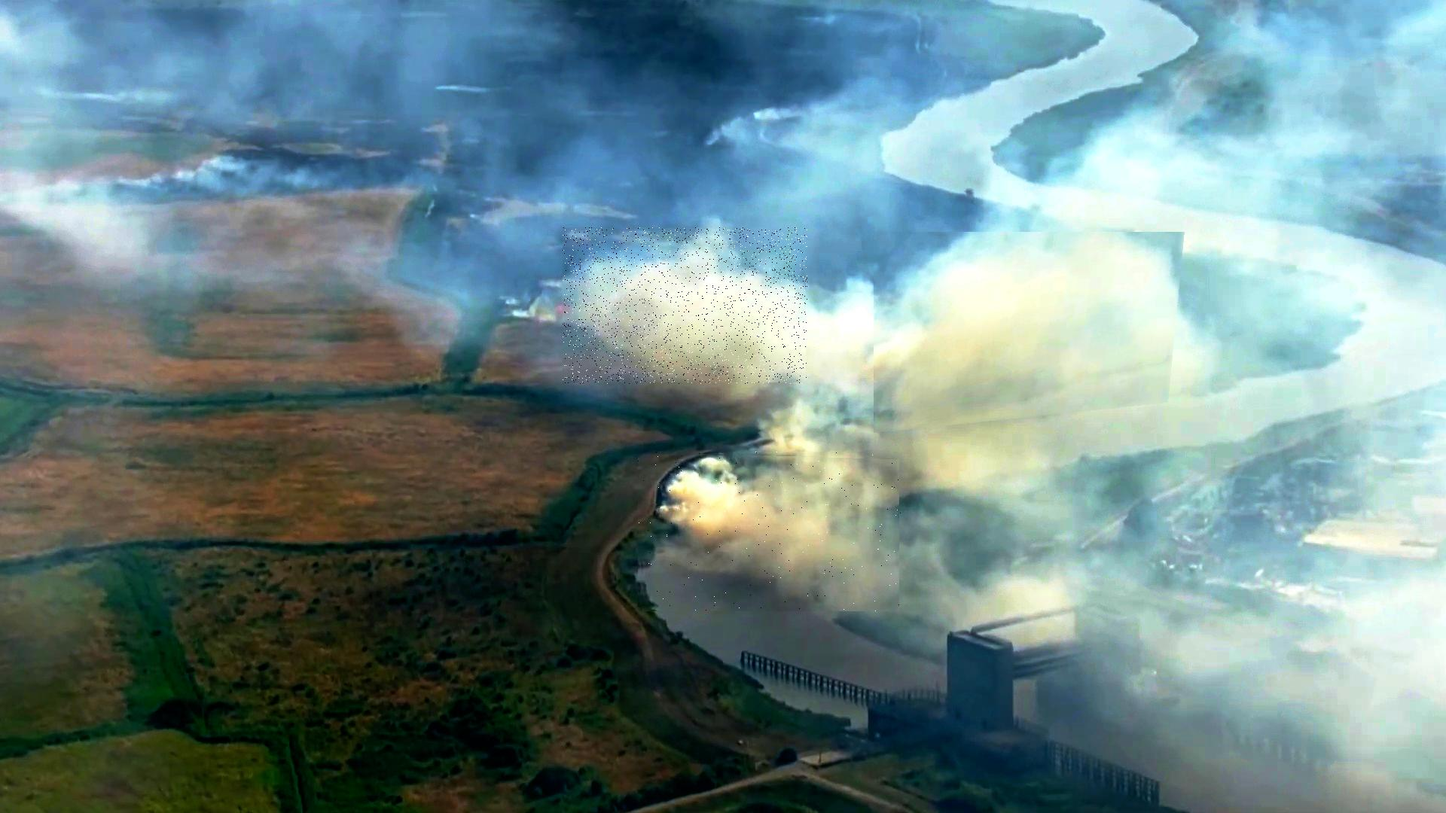smoke: (874, 232, 1188, 435), (639, 452, 901, 612), (563, 228, 808, 384)
